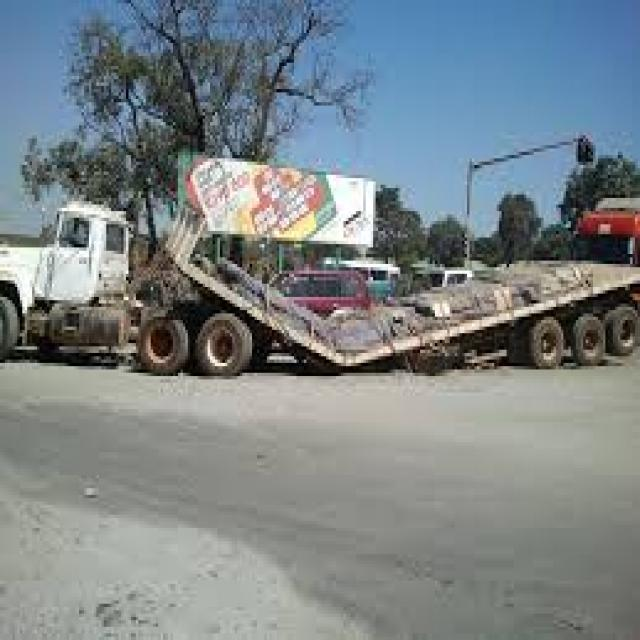accident: (0, 145, 640, 409)
